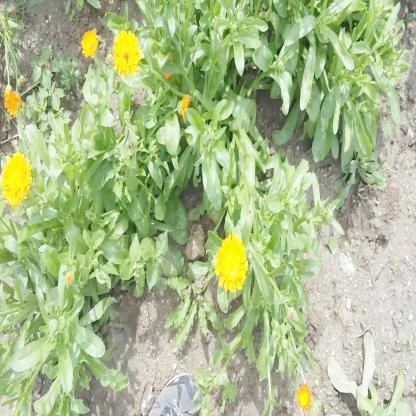marigold: (215, 236, 247, 296), (1, 155, 31, 204), (112, 31, 140, 79)
